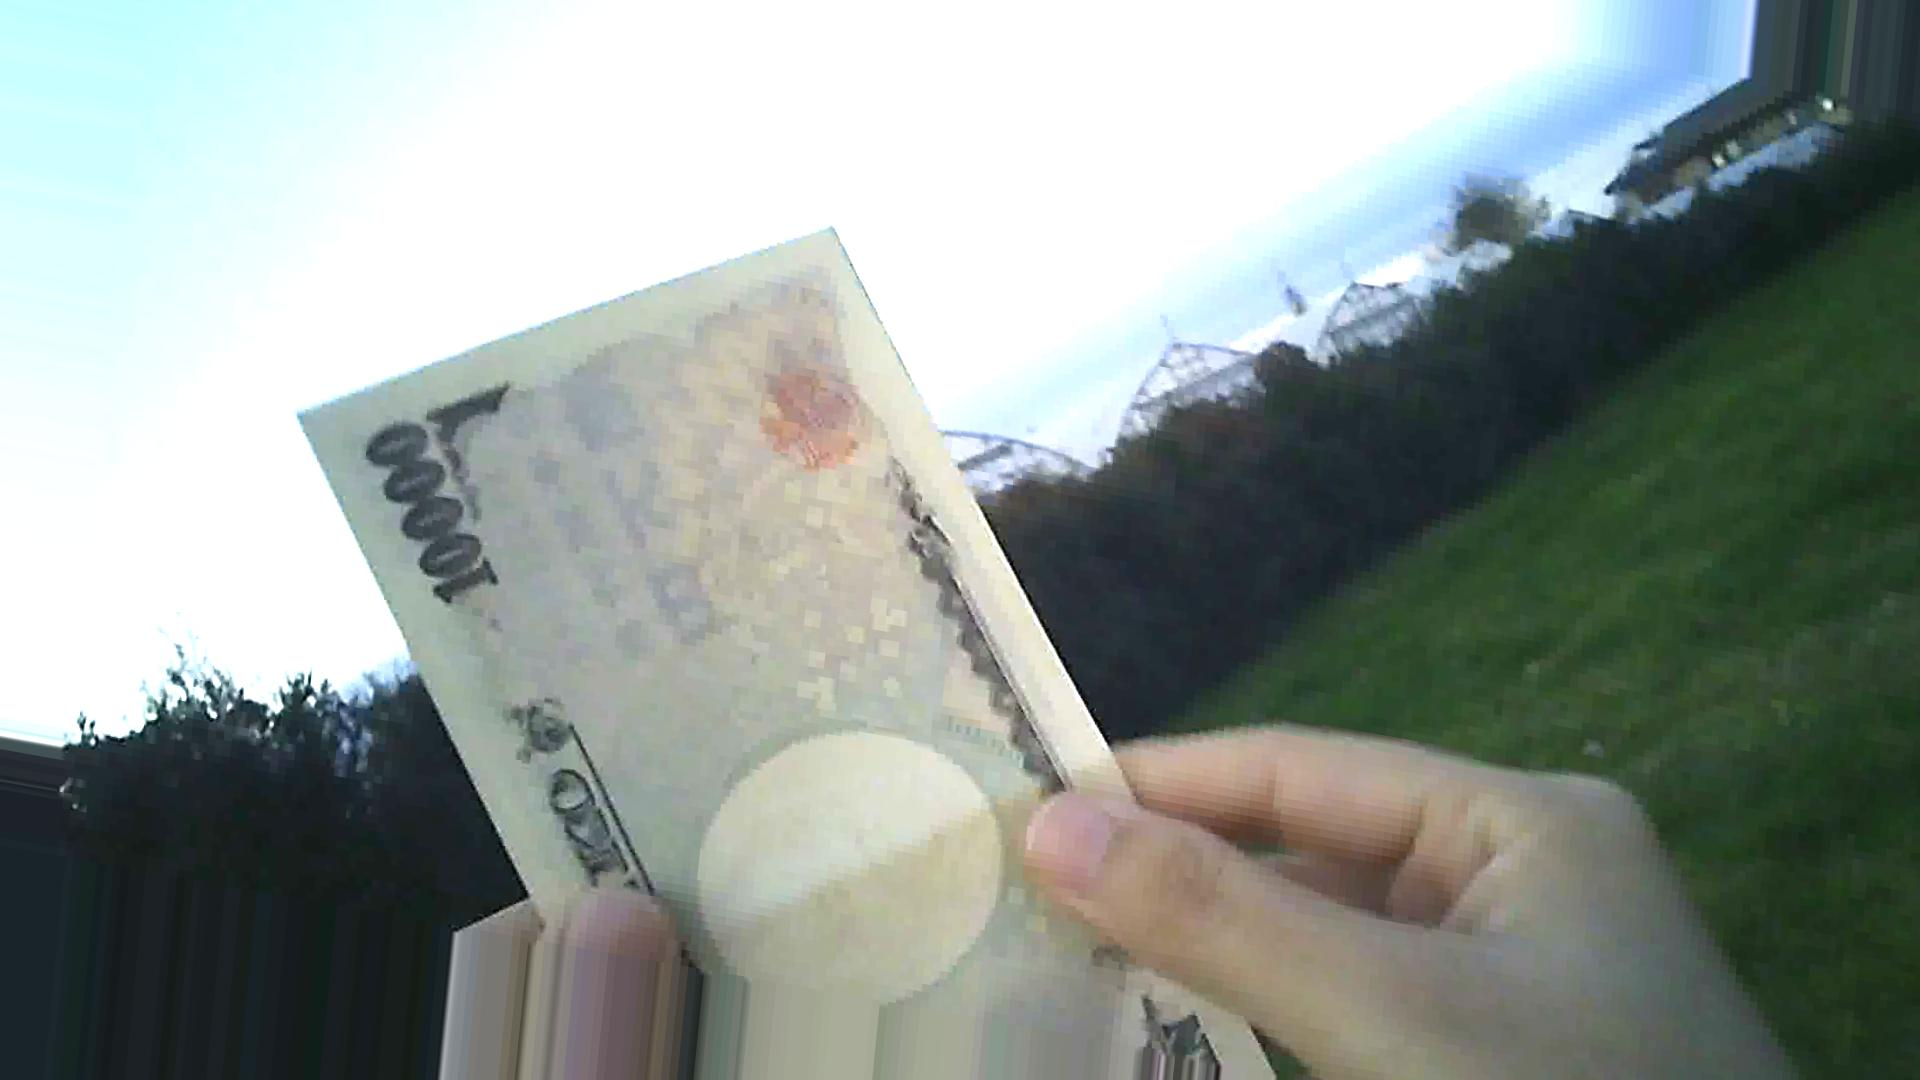10,000 Yen: (293, 248, 1228, 1069)
